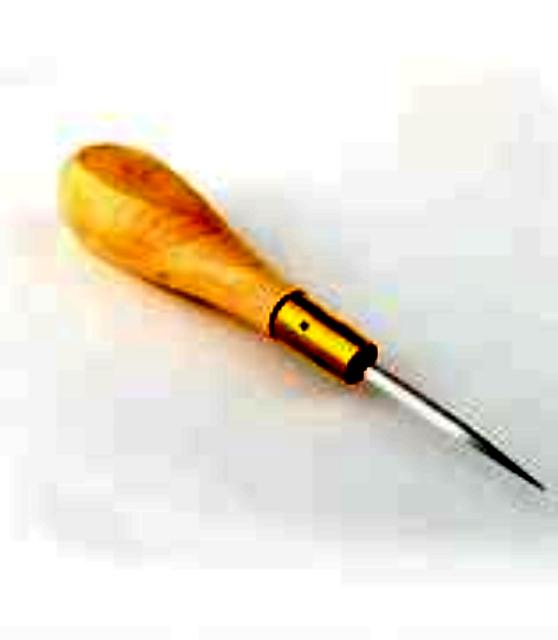ice pick: (54, 142, 558, 498)
